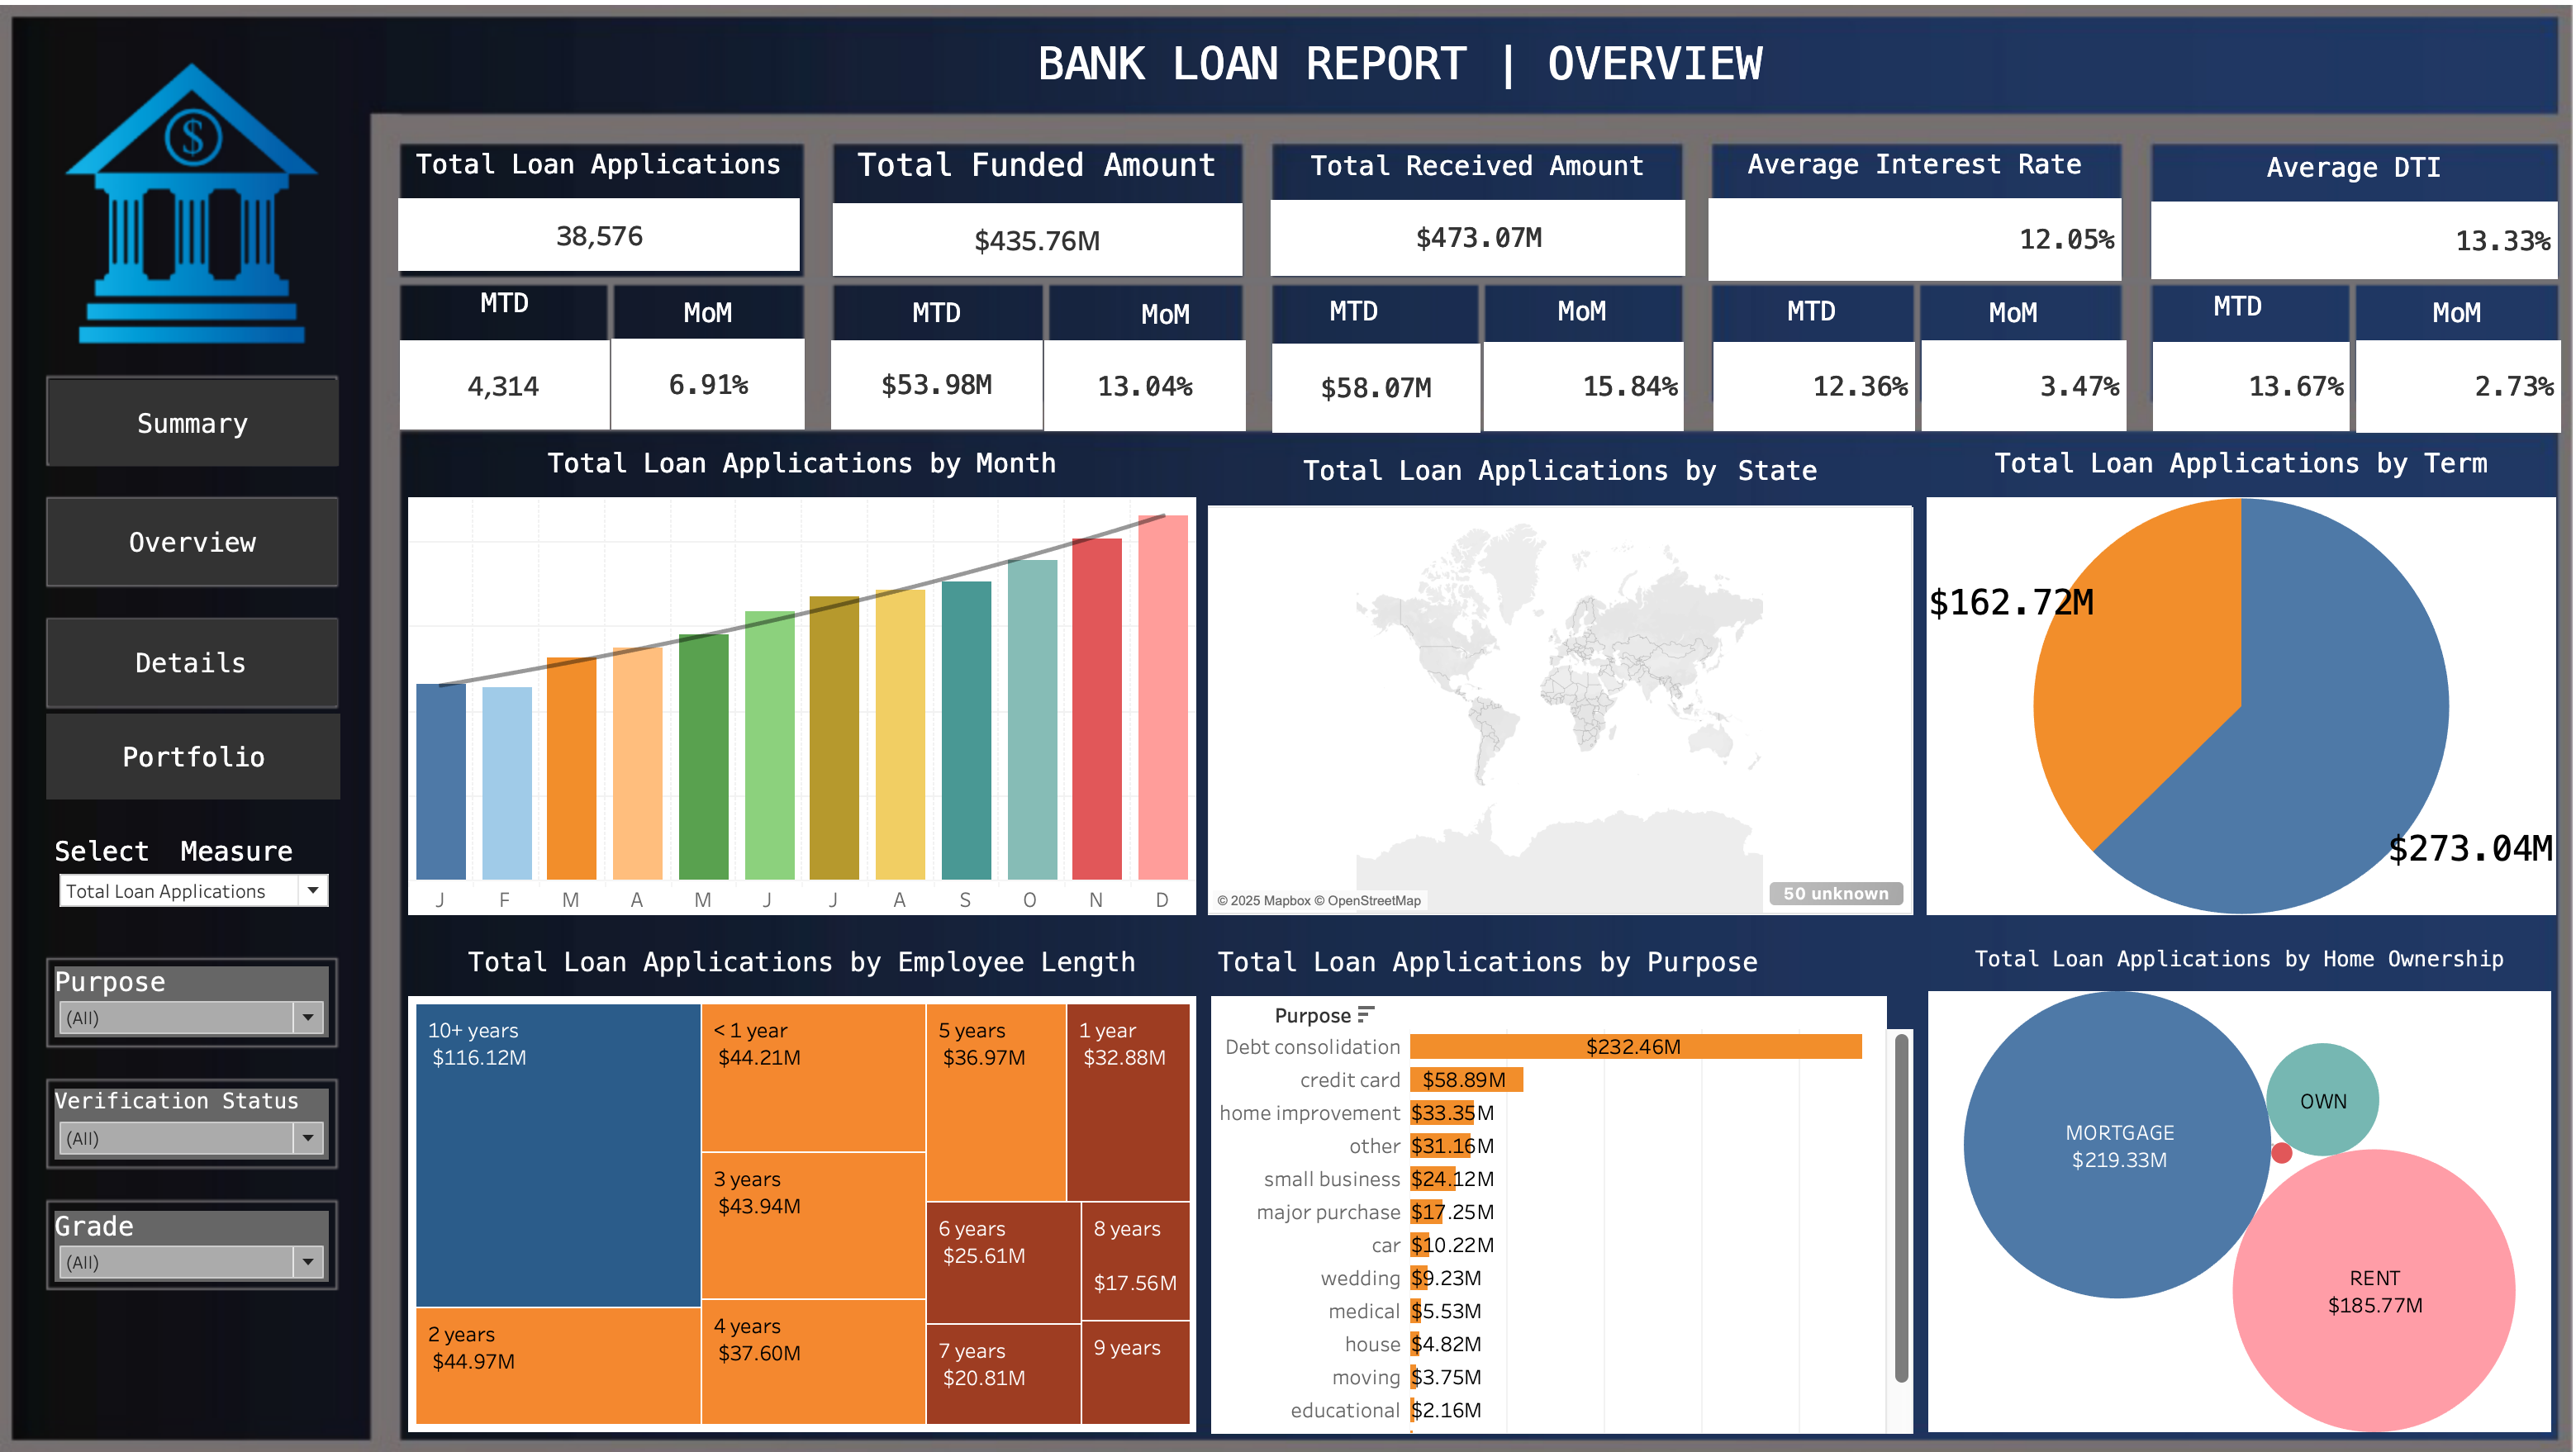

What the dashboard file says about the page in this screenshot:
{"tool":"tableau","page":{"name":"BANK LOAN OVERVIEW 1","canvas":[1600,900],"ordinal":1},"visuals":[{"type":"image","param":"Image/summary-01.jpg","box":[8,8,1584,884]},{"type":"text","box":[384,33,969,30]},{"type":"worksheet","title":"Total Funded Amount","mark":"Automatic","box":[525,94,248,82]},{"type":"worksheet","title":"Total Loan Applications","mark":"Automatic","box":[262,95,243,78]},{"type":"worksheet","title":"Average Interest Rate","mark":"Automatic","box":[1055,95,250,84]},{"type":"worksheet","title":"Total Received Amount","mark":"Automatic","box":[790,96,251,80]},{"type":"worksheet","title":"Average DTI","mark":"Automatic","box":[1323,97,246,81]},{"type":"text","box":[263,172,128,42]},{"type":"text","box":[1326,180,100,30]},{"type":"text","box":[791,183,100,30]},{"type":"text","box":[929,183,100,30]},{"type":"text","box":[1068,183,100,30]},{"type":"text","box":[392.3,183.1,115.6,31.2]},{"type":"text","box":[525,184,127,30]},{"type":"text","box":[1190,184,100,30]},{"type":"text","box":[1447,184,123,30]},{"type":"text","box":[677,185,100,30]},{"type":"worksheet","title":"MoM Total Loan Applications","mark":"Automatic","box":[391,214,117,55]},{"type":"worksheet","title":"MTD Loan Applications","mark":"Automatic","box":[263,215,127,54]},{"type":"worksheet","title":"MTD Total Funded Amount","mark":"Automatic","box":[524,215,128,54]},{"type":"worksheet","title":"MoM Total Funded Amount","mark":"Automatic","box":[653,215,122,55]},{"type":"worksheet","title":"MoM Average Interest Rate","mark":"Automatic","box":[1184,215,124,55]},{"type":"worksheet","title":"MoM Average DTI","mark":"Automatic","box":[1447,215,124,56]},{"type":"worksheet","title":"MoM Total Received Amount","mark":"Automatic","box":[919,216,121,54]},{"type":"worksheet","title":"MTD Average Interest Rate","mark":"Automatic","box":[1058,216,122,54]},{"type":"worksheet","title":"MTD Average DTI","mark":"Automatic","box":[1324,216,119,54]},{"type":"worksheet","title":"MTD Total Received Amount","mark":"Automatic","box":[791,217,126,54]},{"type":"dashboard-object","box":[51,239,175,52]},{"type":"worksheet","title":"Total Loan Funded By Month","mark":"Bar","rows":["Calculation_65442995401318400"],"cols":["issue_date"],"box":[264,272,485,295]},{"type":"worksheet","title":"Total Loan Funded By State","mark":"Automatic","box":[748,272,435,295]},{"type":"worksheet","title":"Total Loan Funded By Term","mark":"Pie","box":[1183,272,389,295]},{"type":"dashboard-object","box":[50,311,175,52]},{"type":"dashboard-object","box":[50,384,175,52]},{"type":"dashboard-object","box":[49,441,178,52]},{"type":"parameter","param":"[Parameters].[Parameter 1]","box":[50,511,177,61]},{"type":"worksheet","title":"Total Funded by Employee Length ","mark":"Automatic","box":[264,574,485,306]},{"type":"worksheet","title":"Total Funded by Purpose","mark":"Automatic","rows":["purpose"],"cols":["loan_amount"],"box":[750,574,433,307]},{"type":"worksheet","title":"Total Funded for Home Ownership","mark":"Circle","box":[1184,574,385,306]},{"type":"filter","title":"Average DTI","param":"[federated.12kh4dk13x4zyx0zkb6am0r0stkr].[none:purpose:nk]","box":[50,590,174,51]},{"type":"filter","title":"Average DTI","param":"[federated.12kh4dk13x4zyx0zkb6am0r0stkr].[none:verification_status:nk]","box":[50,664,174,51]},{"type":"filter","title":"Average DTI","param":"[federated.12kh4dk13x4zyx0zkb6am0r0stkr].[none:grade:nk]","box":[50,738,174,51]}]}

Visuals, with their boxes in screenshot pixels (x1, y1, x2, y2), scaled from the page's 1600x900 canvas onto the 2576x1452 screenshot:
image: x1=13 y1=13 x2=2563 y2=1439
text: x1=618 y1=53 x2=2179 y2=102
"Total Funded Amount" worksheet: x1=845 y1=152 x2=1244 y2=284
"Total Loan Applications" worksheet: x1=422 y1=154 x2=813 y2=279
"Average Interest Rate" worksheet: x1=1699 y1=154 x2=2101 y2=289
"Total Received Amount" worksheet: x1=1272 y1=155 x2=1676 y2=284
"Average DTI" worksheet: x1=2130 y1=156 x2=2526 y2=287
text: x1=424 y1=278 x2=630 y2=345
text: x1=2135 y1=291 x2=2296 y2=339
text: x1=1273 y1=295 x2=1434 y2=344
text: x1=1495 y1=295 x2=1656 y2=344
text: x1=1719 y1=295 x2=1880 y2=344
text: x1=631 y1=296 x2=818 y2=346
text: x1=845 y1=297 x2=1050 y2=345
text: x1=1916 y1=297 x2=2077 y2=345
text: x1=2330 y1=297 x2=2528 y2=345
text: x1=1090 y1=298 x2=1251 y2=347
"MoM Total Loan Applications" worksheet: x1=630 y1=345 x2=818 y2=434
"MTD Loan Applications" worksheet: x1=424 y1=347 x2=628 y2=434
"MTD Total Funded Amount" worksheet: x1=844 y1=347 x2=1050 y2=434
"MoM Total Funded Amount" worksheet: x1=1052 y1=347 x2=1248 y2=435
"MoM Average Interest Rate" worksheet: x1=1906 y1=347 x2=2106 y2=435
"MoM Average DTI" worksheet: x1=2330 y1=347 x2=2529 y2=437
"MoM Total Received Amount" worksheet: x1=1480 y1=349 x2=1675 y2=435
"MTD Average Interest Rate" worksheet: x1=1704 y1=349 x2=1900 y2=435
"MTD Average DTI" worksheet: x1=2132 y1=349 x2=2323 y2=435
"MTD Total Received Amount" worksheet: x1=1273 y1=350 x2=1476 y2=437
dashboard-object: x1=82 y1=386 x2=364 y2=469
"Total Loan Funded By Month" worksheet (Bar marks): x1=425 y1=439 x2=1206 y2=915
"Total Loan Funded By State" worksheet: x1=1205 y1=439 x2=1904 y2=915
"Total Loan Funded By Term" worksheet (Pie marks): x1=1904 y1=439 x2=2531 y2=915
dashboard-object: x1=80 y1=501 x2=362 y2=586
dashboard-object: x1=80 y1=619 x2=362 y2=704
dashboard-object: x1=78 y1=711 x2=365 y2=795
parameter: x1=80 y1=824 x2=365 y2=923
"Total Funded by Employee Length " worksheet: x1=425 y1=926 x2=1206 y2=1420
"Total Funded by Purpose" worksheet: x1=1208 y1=926 x2=1904 y2=1421
"Total Funded for Home Ownership" worksheet (Circle marks): x1=1906 y1=926 x2=2526 y2=1420
"Average DTI" filter: x1=80 y1=951 x2=361 y2=1034
"Average DTI" filter: x1=80 y1=1071 x2=361 y2=1154
"Average DTI" filter: x1=80 y1=1191 x2=361 y2=1273
